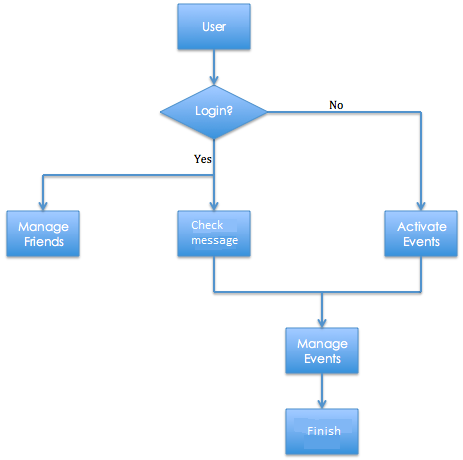arrow: (265, 108, 427, 211), (210, 253, 329, 326), (315, 255, 426, 327), (36, 171, 215, 212), (208, 136, 220, 213), (206, 48, 221, 85), (315, 373, 327, 408)
decision: (157, 84, 270, 143)
process: (283, 324, 361, 378), (3, 208, 84, 259), (282, 406, 363, 457), (174, 1, 253, 53), (174, 208, 254, 258), (382, 210, 460, 261)
text: (294, 337, 349, 365), (15, 220, 71, 247), (187, 219, 240, 247), (396, 220, 448, 248), (192, 104, 236, 118), (199, 18, 227, 36), (304, 425, 341, 437), (193, 152, 213, 165), (328, 97, 345, 111)
